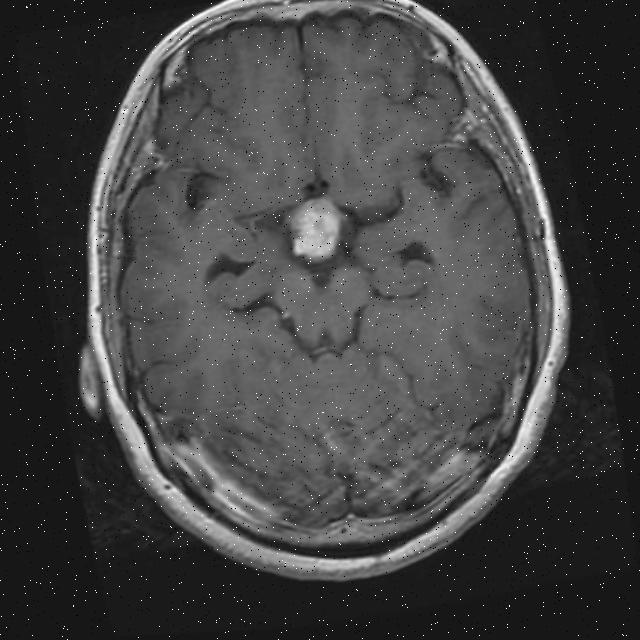Pituitary: (285, 193, 346, 266)
